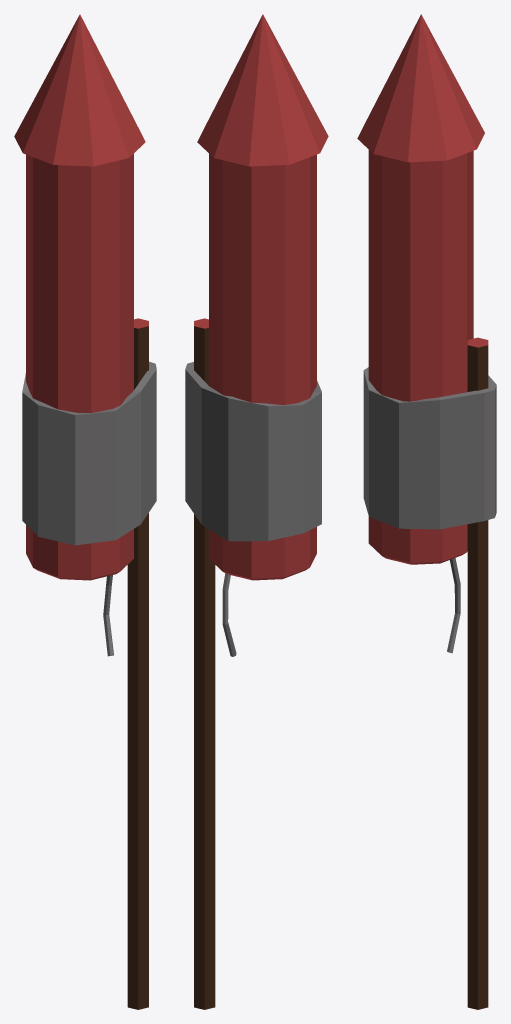
File: Firework.fbx
3 renders of one model, left to right at view 1: azimuth 30°, elevation 25°; view 2: azimuth 150°, elevation 25°; view 3: azimuth 330°, elevation 25°, orthographic. The views are drawn at different scales.
Visible parts, largest first — view 1: Firework; view 2: Firework; view 3: Firework.
Boxes of the visible parts, x1,y1,x2,y2 form: Firework: [14, 14, 156, 1009]; Firework: [185, 14, 328, 1009]; Firework: [357, 14, 496, 1009].
Bounding box in the file's own units: 10.29 × 74.31 × 8.43.
